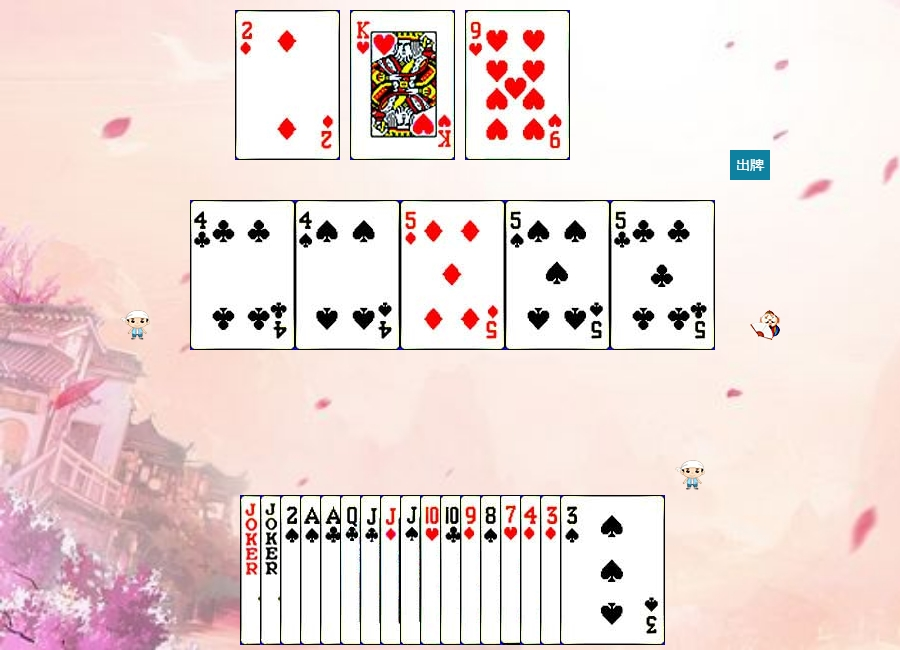10~2: (440, 495, 545, 645)
10~3: (420, 495, 525, 645)
11~1: (380, 495, 485, 645)
11~2: (360, 495, 465, 645)
11~4: (400, 495, 505, 645)
12~2: (340, 495, 445, 645)
13~3: (350, 10, 455, 160)
14~2: (320, 495, 425, 645)
14~4: (300, 495, 405, 645)
15~1: (235, 10, 340, 160)
15~4: (280, 495, 385, 645)
17~3: (260, 495, 365, 645)
18~4: (240, 495, 345, 645)
3~1: (540, 495, 645, 645)
3~4: (560, 495, 665, 645)
4~1: (520, 495, 625, 645)
4~2: (190, 200, 295, 350)
4~4: (295, 200, 400, 350)
5~1: (400, 200, 505, 350)
5~2: (610, 200, 715, 350)
5~4: (505, 200, 610, 350)
7~3: (500, 495, 605, 645)
8~4: (480, 495, 585, 645)
9~1: (460, 495, 565, 645)
9~3: (465, 10, 570, 160)
